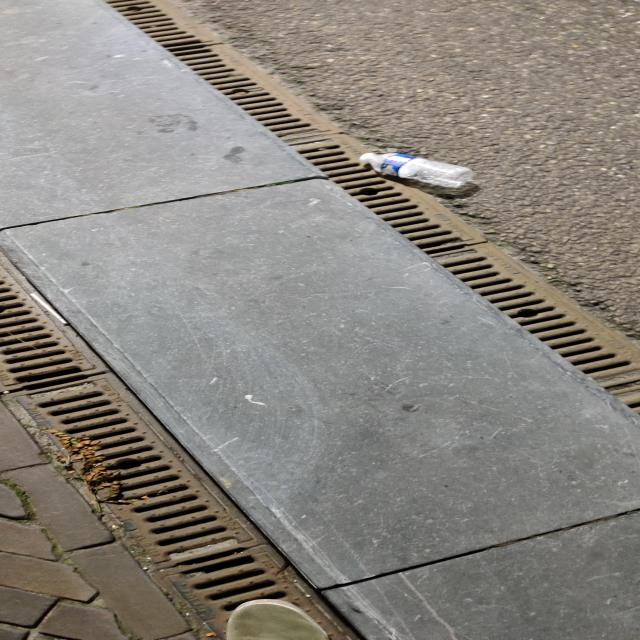litter: (365, 153, 474, 187), (381, 154, 416, 176), (359, 153, 375, 161)
